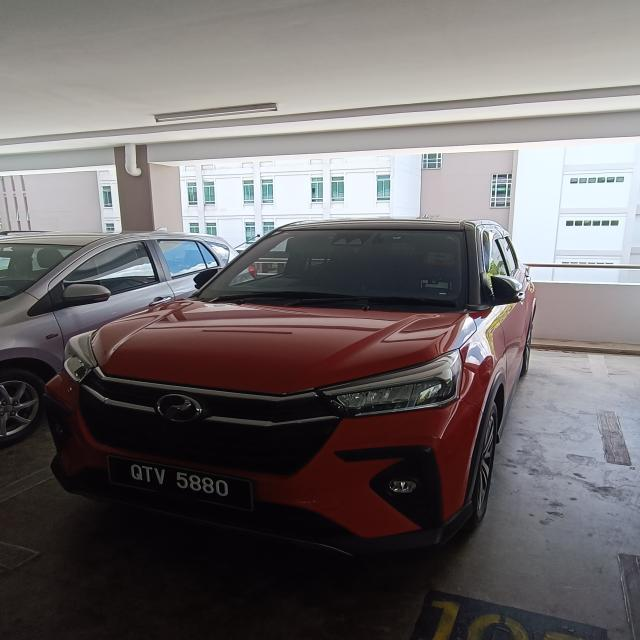PeroduaAtiva: (40, 214, 538, 556)
